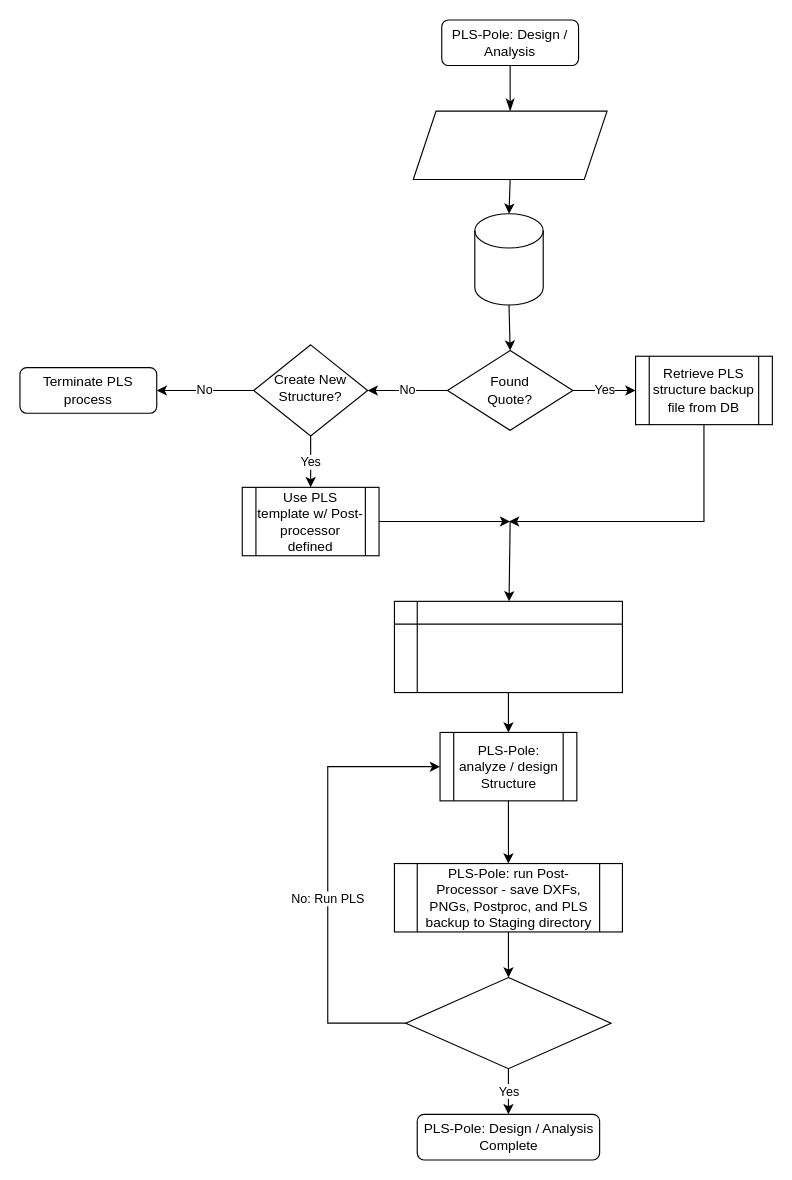
Some shapes in this 792 by 1180 pixel diagram are drawn without their labels. Each missing label, with the centre of its shape:
"PLS analysis / Design Complete?" belongs at [508,1022].
"Query Quote database: Quote No. Revision no." belongs at [509,145].
"Quote" belongs at [508,259].
"Save PLS structure in PLS WorkSpace (C:\PLS\Temp\WorkSpace)" belongs at [507,646].
